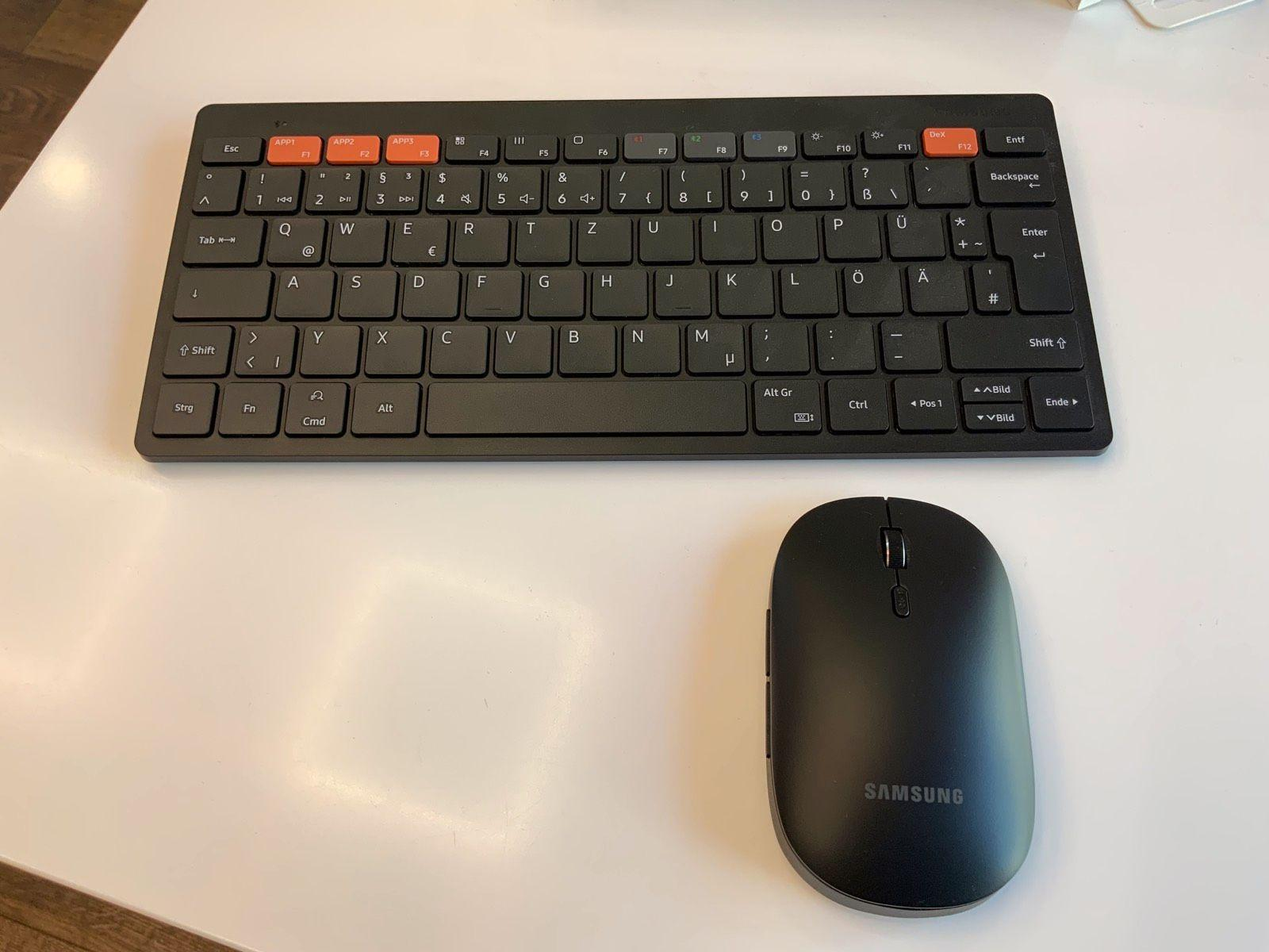0: (785, 157, 844, 206)
1: (241, 163, 300, 211)
2: (303, 163, 361, 209)
3: (363, 163, 421, 210)
4: (424, 161, 480, 209)
5: (483, 162, 540, 209)
6: (544, 162, 600, 209)
7: (605, 161, 661, 209)
8: (665, 160, 721, 208)
9: (726, 159, 783, 206)
a: (271, 265, 332, 317)
accent: (910, 155, 968, 203)
ae: (904, 259, 968, 313)
alt-left: (347, 377, 420, 434)
altgr-right: (747, 374, 822, 432)
b: (554, 320, 615, 374)
c: (425, 321, 488, 374)
caret: (188, 164, 239, 211)
comma: (746, 317, 809, 370)
d: (398, 265, 458, 317)
del: (972, 154, 1055, 202)
e: (388, 213, 447, 263)
enter: (988, 202, 1072, 309)
f: (462, 265, 520, 317)
g: (524, 265, 583, 317)
h: (587, 265, 646, 316)
hash: (969, 257, 1009, 310)
i: (697, 211, 755, 259)
j: (650, 263, 709, 316)
k: (713, 263, 773, 315)
keyboard: (123, 93, 1119, 466)
l: (776, 262, 838, 314)
less: (231, 320, 295, 374)
m: (682, 318, 744, 373)
minus: (876, 315, 940, 369)
n: (618, 320, 680, 374)
o: (758, 210, 817, 259)
oe: (840, 261, 903, 313)
p: (819, 208, 880, 259)
plus: (945, 205, 986, 255)
point: (811, 316, 874, 370)
q: (263, 214, 324, 263)
r: (450, 213, 508, 263)
s: (335, 266, 395, 317)
shift-left: (158, 319, 231, 374)
shift-lock: (170, 264, 269, 317)
shift-right: (943, 311, 1083, 368)
space: (422, 376, 746, 434)
ss: (847, 156, 905, 205)
strg-left: (1027, 370, 1095, 429), (148, 377, 215, 435)
strg-right: (823, 374, 888, 431)
t: (512, 213, 569, 262)
tab: (179, 212, 263, 262)
u: (635, 212, 692, 262)
ue: (884, 207, 945, 258)
v: (491, 320, 551, 374)
w: (325, 213, 385, 263)
x: (362, 321, 423, 374)
y: (297, 321, 359, 374)
z: (573, 213, 631, 262)
